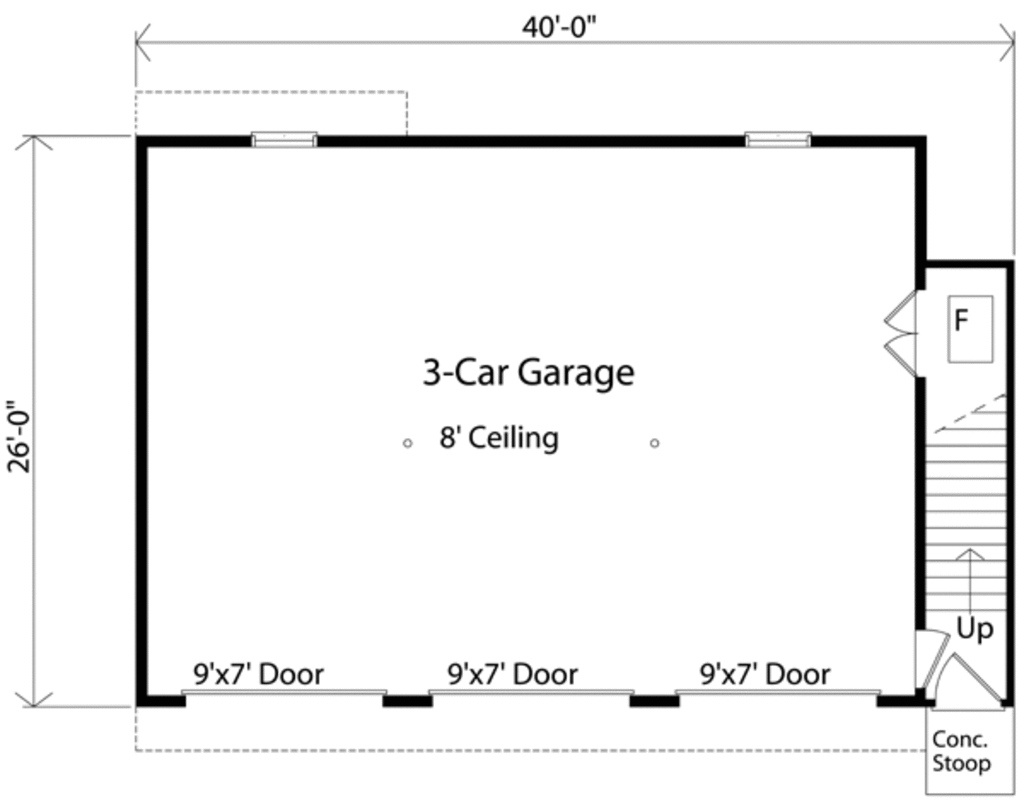door: (934, 653, 1009, 714), (877, 288, 923, 380), (908, 626, 948, 688)
stairs: (925, 385, 1019, 631)
window: (734, 129, 815, 155), (248, 122, 322, 150)
